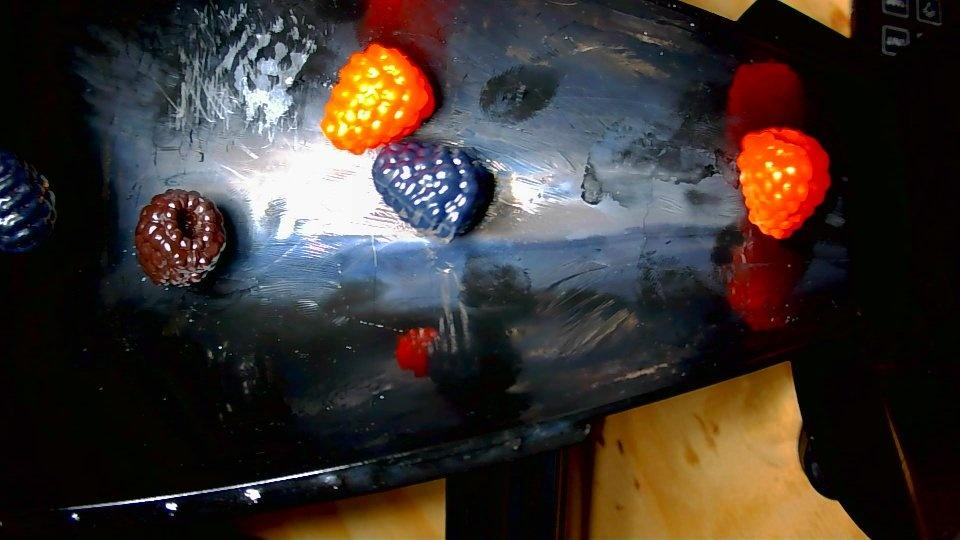berry: (320, 43, 434, 154), (372, 141, 493, 241), (736, 128, 830, 239), (134, 189, 226, 286), (0, 148, 56, 253)
